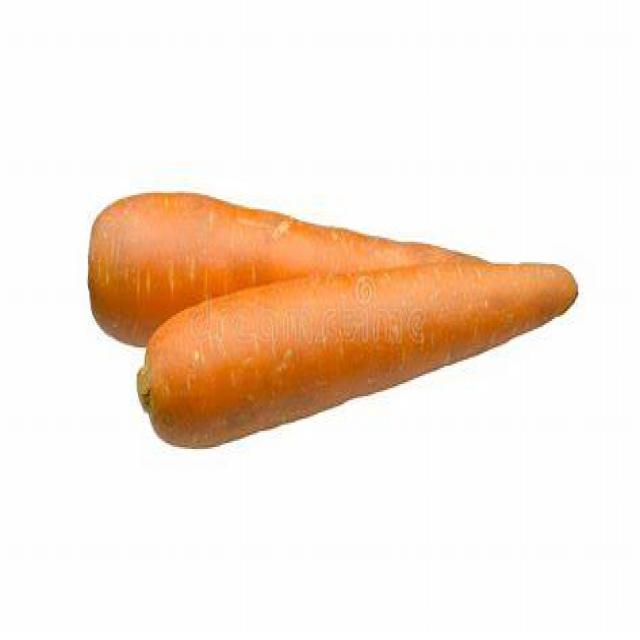Carrot: (126, 262, 582, 452), (83, 192, 505, 351)
